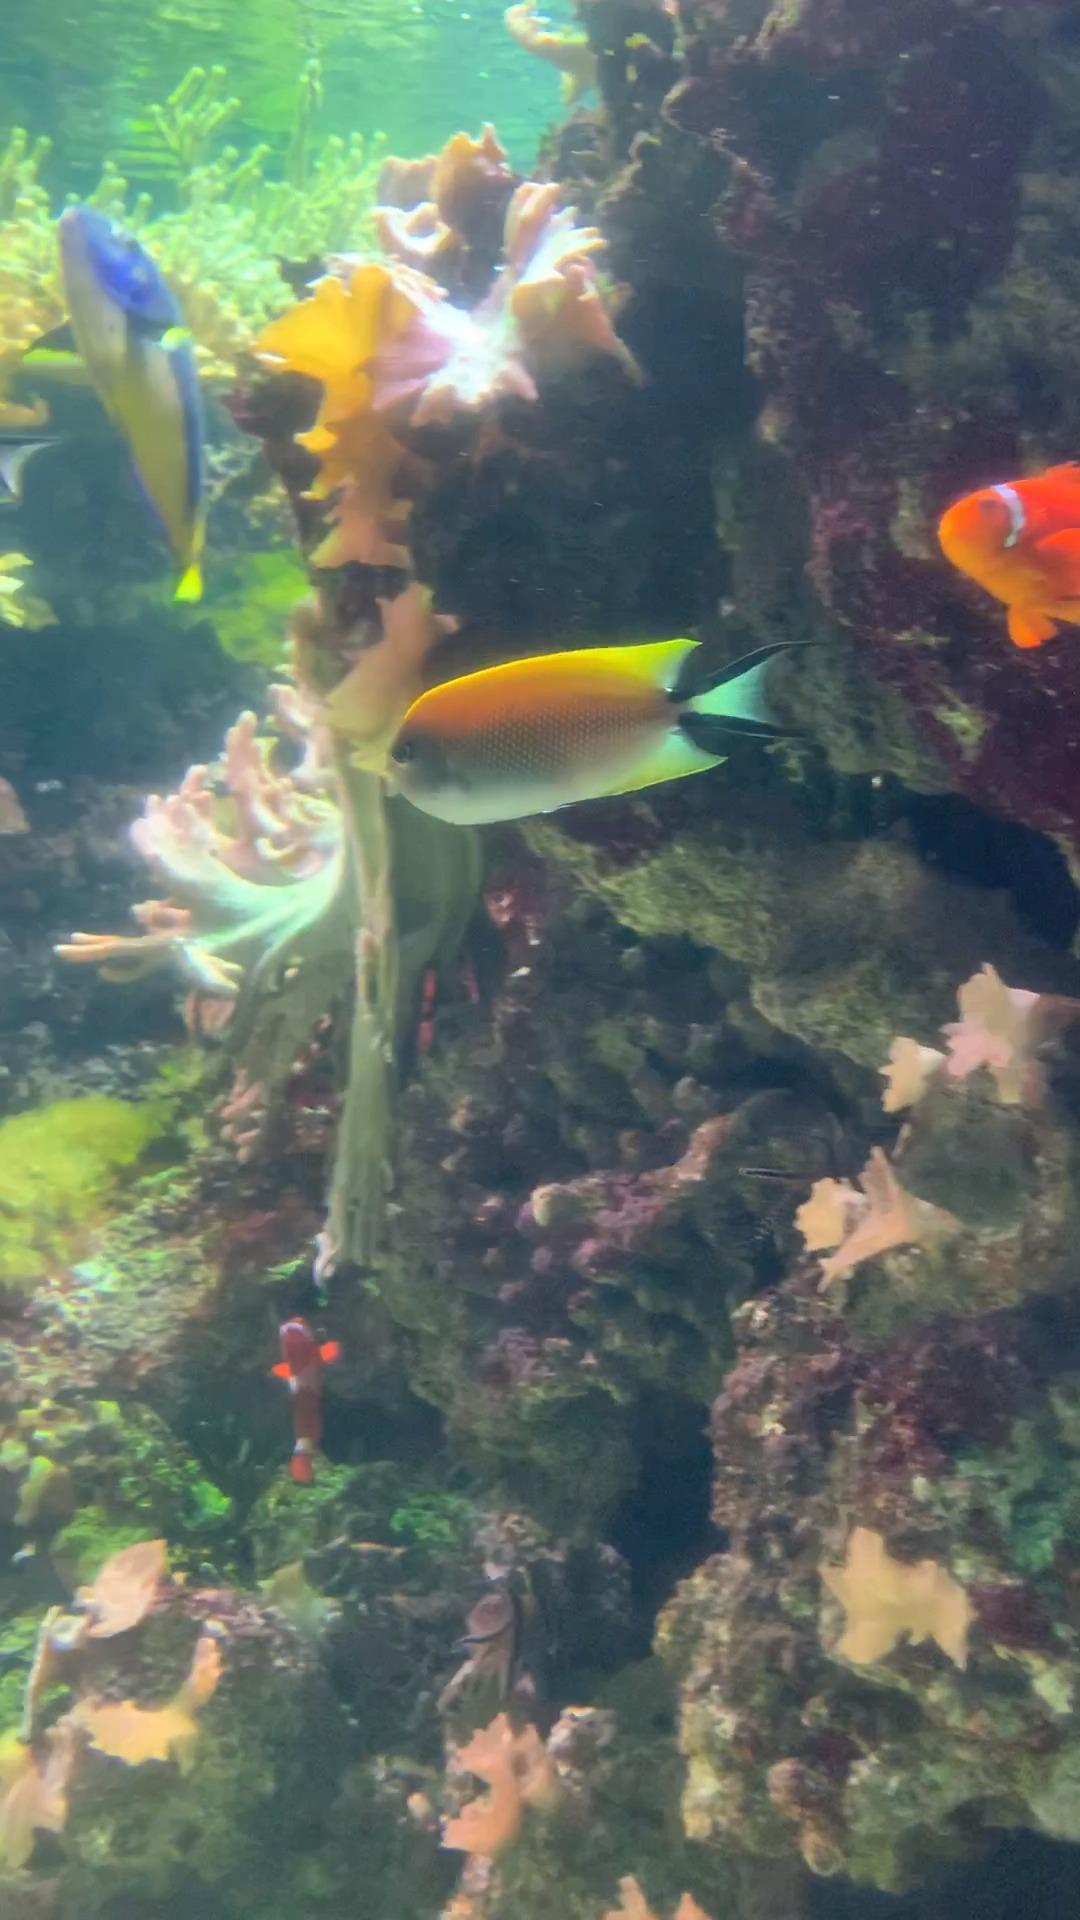fish: (382, 633, 828, 832), (34, 202, 215, 607), (932, 458, 1080, 655), (269, 1315, 342, 1487)
